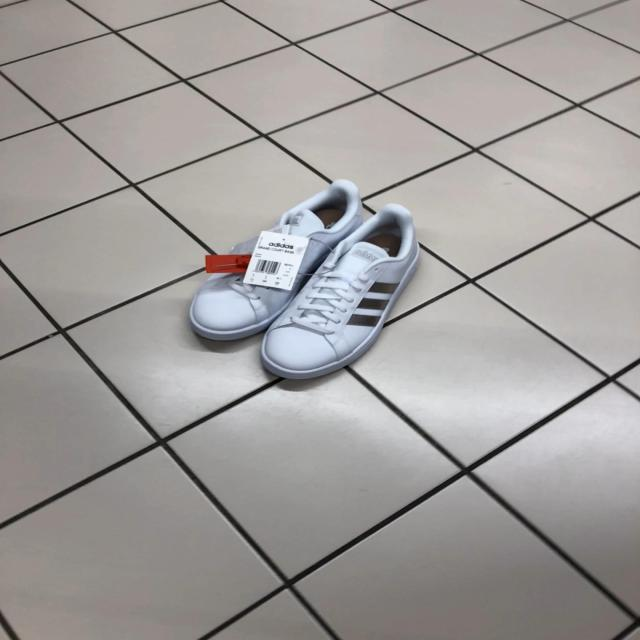shoe: (259, 205, 423, 387), (188, 182, 370, 345)
